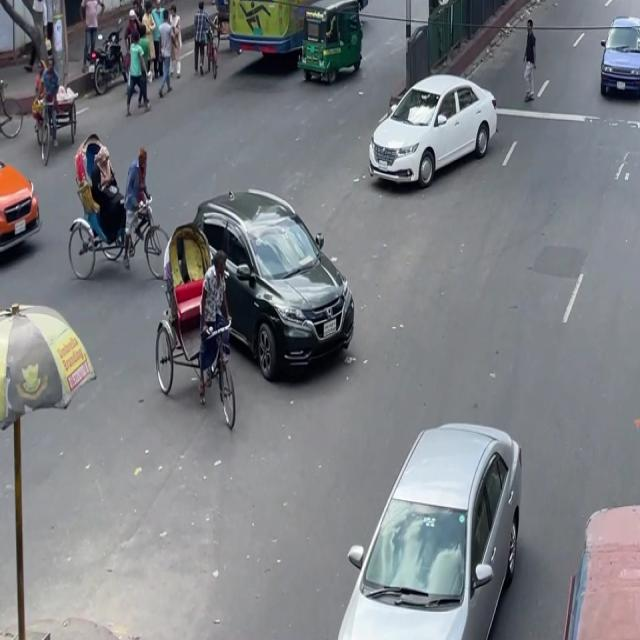bus: (226, 0, 374, 65)
car: (332, 399, 535, 635), (159, 172, 363, 387), (363, 59, 502, 198), (595, 7, 640, 106)
motorbike: (76, 20, 132, 102)
rickshaw: (292, 0, 370, 93)
van: (18, 60, 88, 164)
